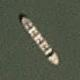ship: (0, 0, 26, 29)
